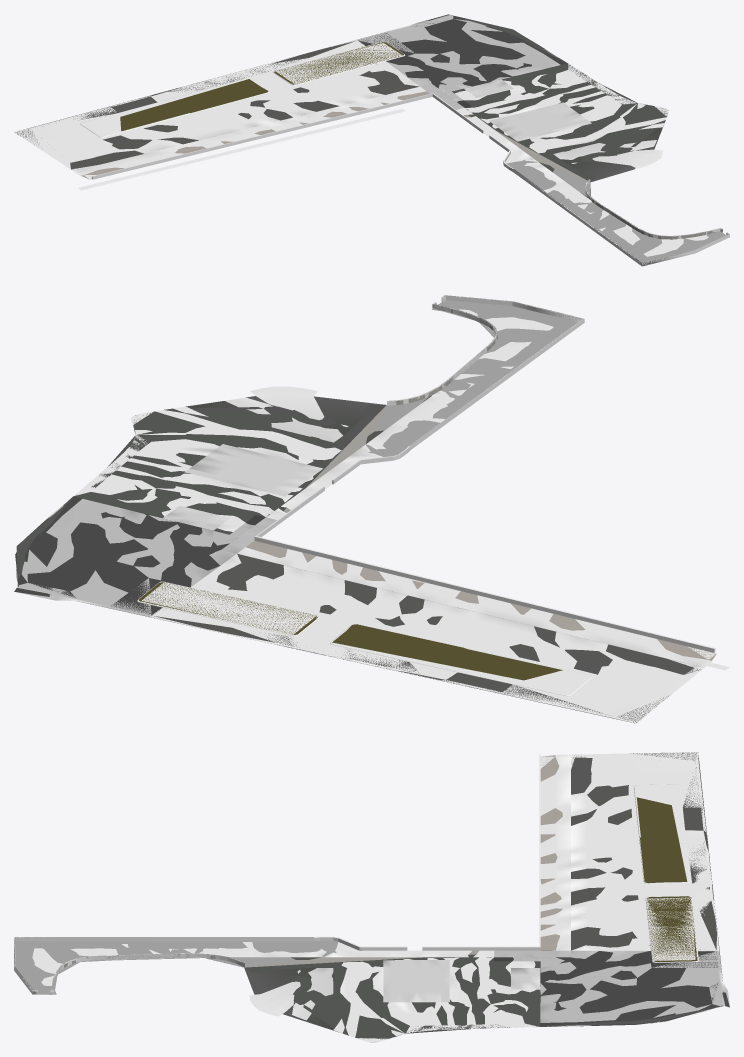
Rendered from s_port_ppa_base.dae.
3 views of the same model, one above another, from view 1: azimuth 30°, elevation 25°; view 2: azimuth 150°, elevation 25°; view 3: azimuth 270°, elevation 25° (orthographic). The views are drawn at different scales.
Parts seen in each view (by area): view 1: Colmesh_s_port_ppa_base_main-1, s_port_ppa_base_main_L600, s_port_ppa_base_main_L100, s_port_ppa_base_main_L2000; view 2: Colmesh_s_port_ppa_base_main-1, s_port_ppa_base_main_L600, s_port_ppa_base_main_L100, s_port_ppa_base_main_L2000; view 3: Colmesh_s_port_ppa_base_main-1, s_port_ppa_base_main_L600, s_port_ppa_base_main_L100, s_port_ppa_base_main_L2000.
Part boxes in pixels (x1=…): Colmesh_s_port_ppa_base_main-1: x1=14, y1=14, x2=729, y2=266; s_port_ppa_base_main_L600: x1=15, y1=14, x2=725, y2=260; s_port_ppa_base_main_L100: x1=14, y1=14, x2=725, y2=262; s_port_ppa_base_main_L2000: x1=444, y1=85, x2=728, y2=264; Colmesh_s_port_ppa_base_main-1: x1=16, y1=295, x2=729, y2=723; s_port_ppa_base_main_L600: x1=14, y1=300, x2=715, y2=722; s_port_ppa_base_main_L100: x1=16, y1=300, x2=716, y2=723; s_port_ppa_base_main_L2000: x1=185, y1=296, x2=582, y2=540; Colmesh_s_port_ppa_base_main-1: x1=14, y1=752, x2=729, y2=1042; s_port_ppa_base_main_L600: x1=22, y1=752, x2=729, y2=1039; s_port_ppa_base_main_L100: x1=15, y1=752, x2=725, y2=1033; s_port_ppa_base_main_L2000: x1=14, y1=937, x2=554, y2=1002.
Size of the model in its own units: 177 by 184 by 3.75.
